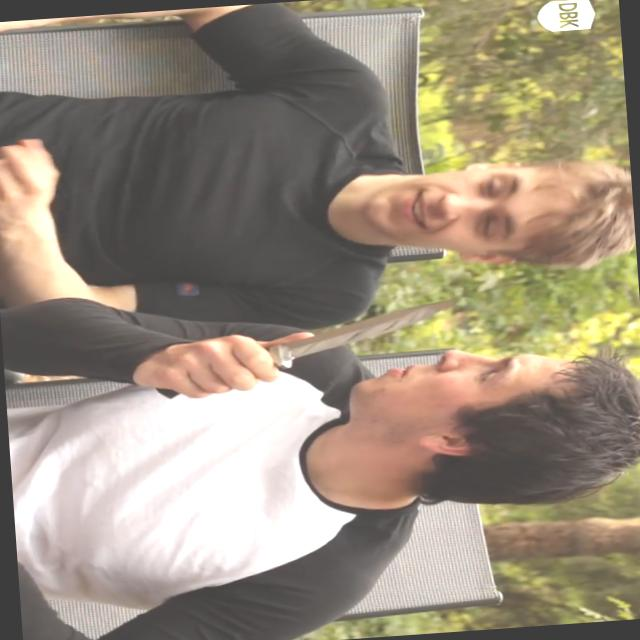knife: (138, 287, 486, 406)
